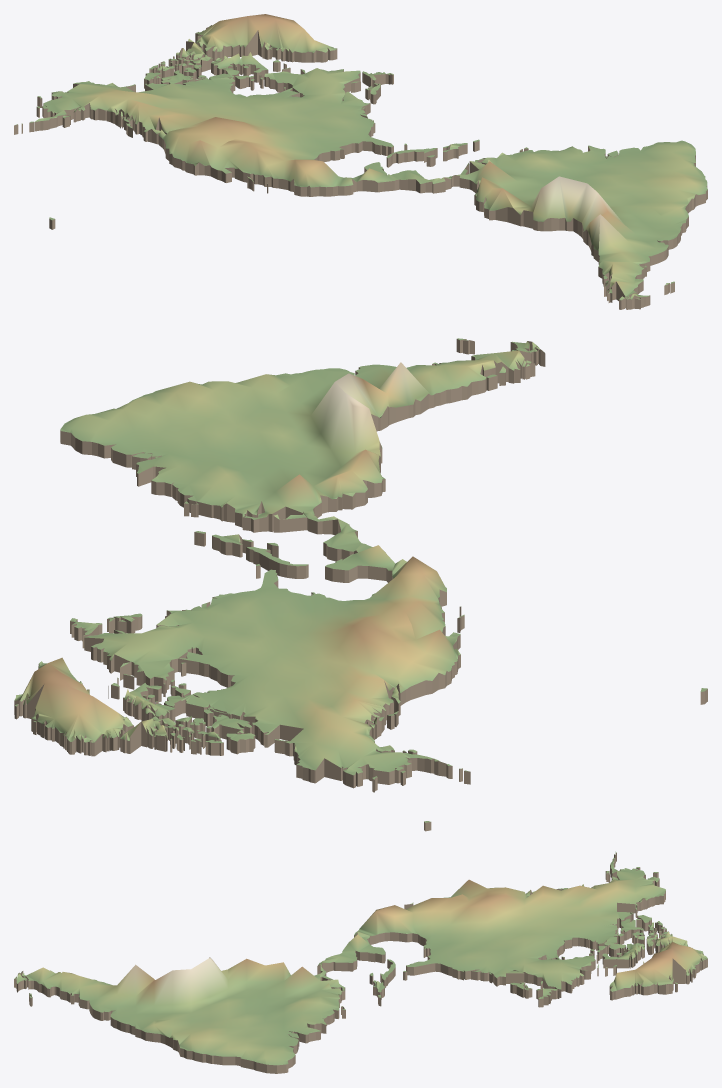
Rendered from america-terrain.glb.
The picture shows the model from 3 angles, top to bottom: view 1: azimuth 30°, elevation 25°; view 2: azimuth 150°, elevation 25°; view 3: azimuth 270°, elevation 25°; orthographic projection. The views are drawn at different scales.
Visible parts, largest first — view 1: america: norte em -Z, leste em +X, elevação em +Y; view 2: america: norte em -Z, leste em +X, elevação em +Y; view 3: america: norte em -Z, leste em +X, elevação em +Y.
Part boxes in pixels (x1,y1,x2,y2): america: norte em -Z, leste em +X, elevação em +Y: [14, 14, 707, 309]; america: norte em -Z, leste em +X, elevação em +Y: [14, 338, 707, 792]; america: norte em -Z, leste em +X, elevação em +Y: [14, 821, 707, 1073].
Size of the model in its own units: 1.54 by 0.1223 by 1.85.
